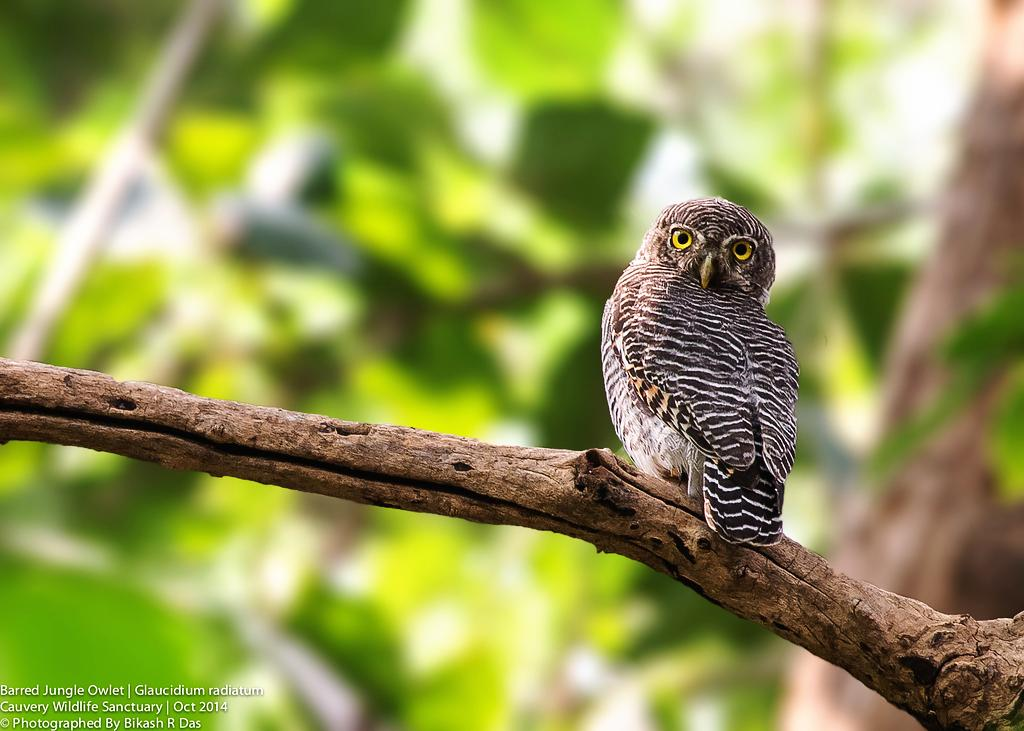Owl: (601, 199, 801, 546)
